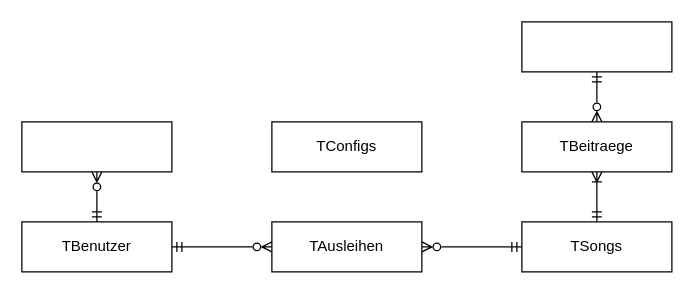
Some shapes in this 694 by 294 pixel diagram are drawn without their labels. Each missing label, with the box of its shape:
TAuthSessions: (21, 121, 172, 172)
TMusiker: (521, 21, 672, 72)
